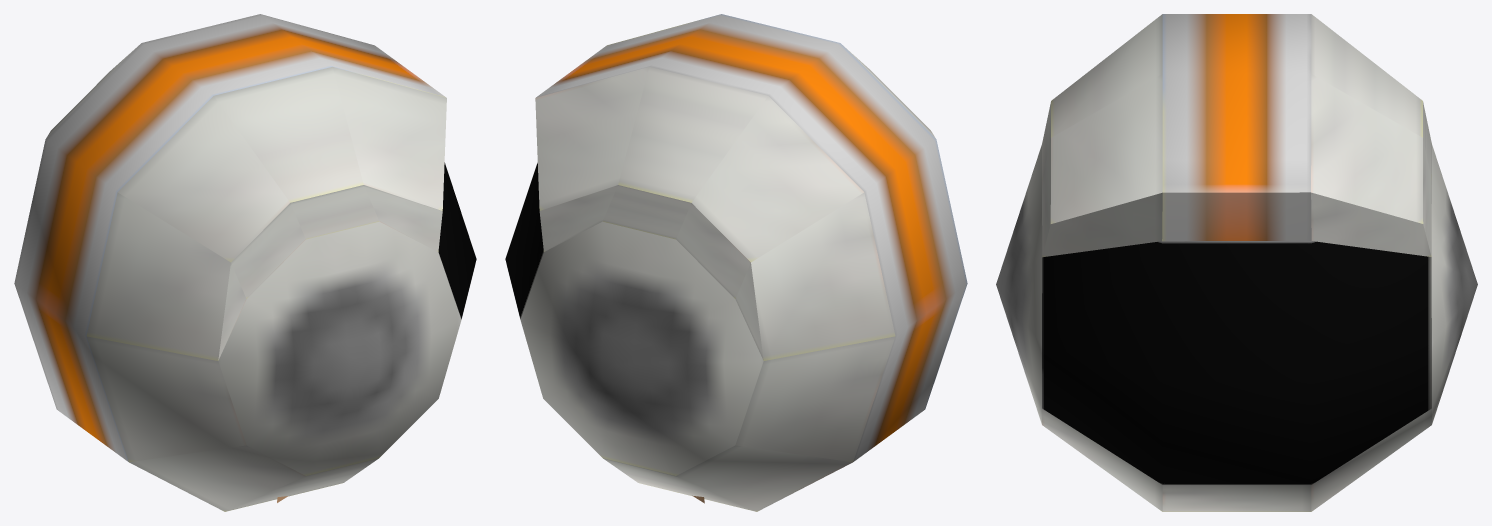
File: human2c4.gltf
The picture shows the model from 3 angles, left to right: view 1: azimuth 30°, elevation 25°; view 2: azimuth 150°, elevation 25°; view 3: azimuth 270°, elevation 25°; orthographic projection. The views are drawn at different scales.
Parts seen in each view (by area): view 1: human2c4; view 2: human2c4; view 3: human2c4.
Boxes of the visible parts, x1,y1,x2,y2 form: human2c4: [14, 14, 476, 511]; human2c4: [505, 14, 967, 511]; human2c4: [996, 14, 1477, 511].
Bounding box in the file's own units: 1.93 × 1.98 × 2.
